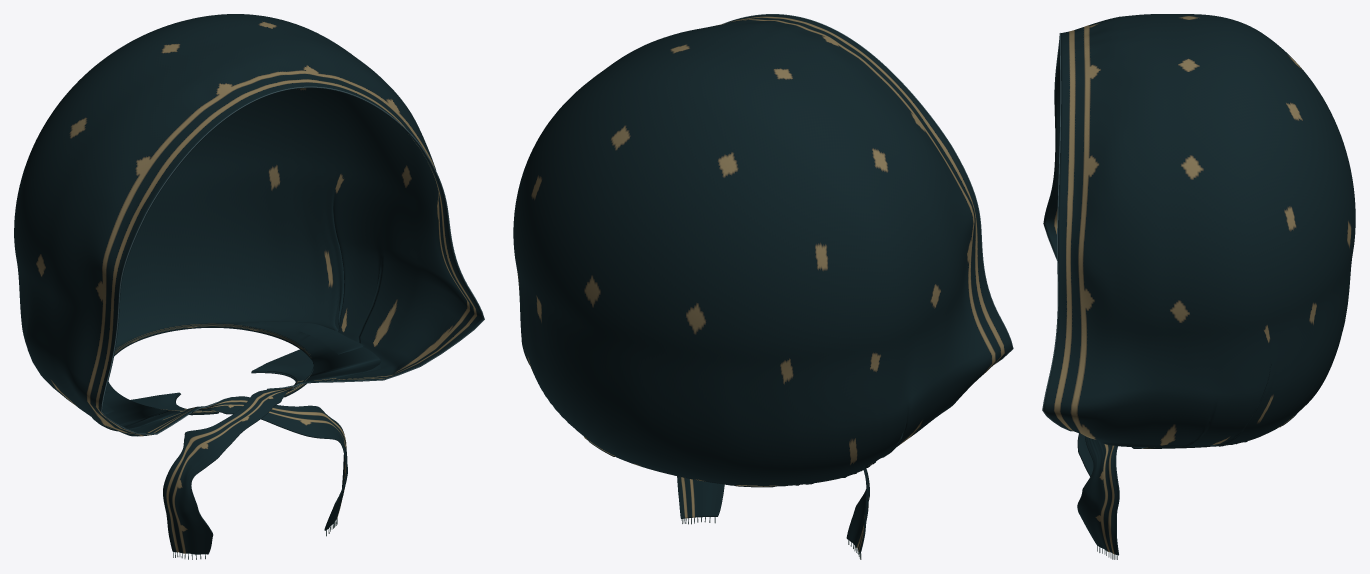
Rendered from Feminine-side-sweep-triangle-pashmina250-headgear.glb.
3 renders of one model, left to right at view 1: azimuth 30°, elevation 25°; view 2: azimuth 150°, elevation 25°; view 3: azimuth 270°, elevation 25°, orthographic. The views are drawn at different scales.
Parts seen in each view (by area): view 1: 226 headgear / Headwear / continuous woven pashmina239, 226 headgear / Headwear / face edge239; view 2: 226 headgear / Headwear / continuous woven pashmina239, 226 headgear / Headwear / face edge239; view 3: 226 headgear / Headwear / continuous woven pashmina239, 226 headgear / Headwear / face edge239.
Part boxes in pixels (x1,y1,x2,y2): 226 headgear / Headwear / continuous woven pashmina239: [14, 14, 483, 554]; 226 headgear / Headwear / face edge239: [101, 86, 484, 434]; 226 headgear / Headwear / continuous woven pashmina239: [513, 14, 1012, 553]; 226 headgear / Headwear / face edge239: [723, 14, 1013, 364]; 226 headgear / Headwear / continuous woven pashmina239: [1043, 14, 1355, 555]; 226 headgear / Headwear / face edge239: [1042, 33, 1072, 431].
Bounding box in the file's own units: 1.15 × 1.39 × 0.8111.
3 materials, 1 textured.
